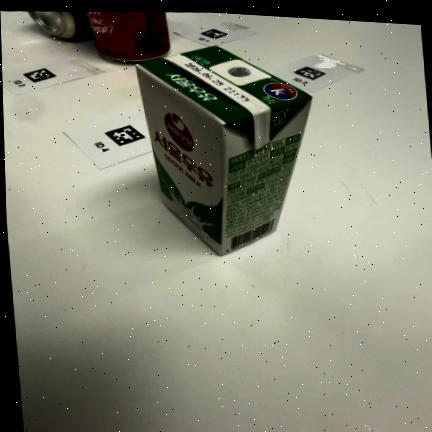milk_green: (136, 47, 311, 255)
